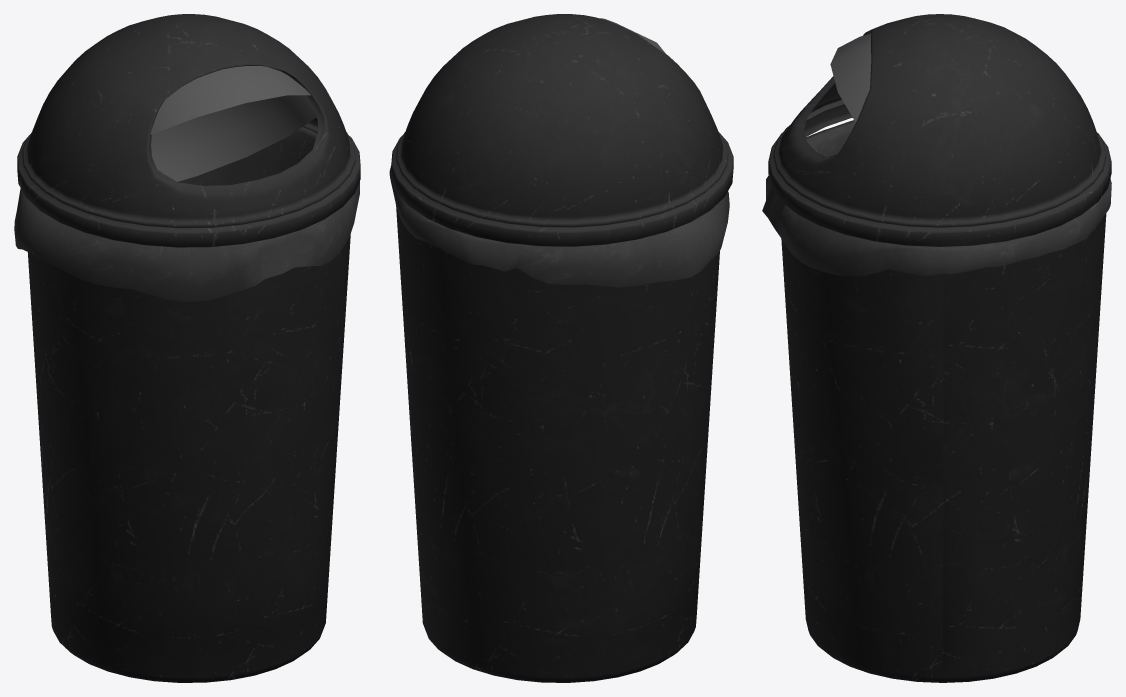
Rendered from SPAMCATBIN.fbx.
3 views of the same model, side by side, from view 1: azimuth 30°, elevation 25°; view 2: azimuth 150°, elevation 25°; view 3: azimuth 270°, elevation 25° (orthographic).
Visible parts, largest first — view 1: SPAMCATHOME; view 2: SPAMCATHOME; view 3: SPAMCATHOME.
Boxes of the visible parts, x1,y1,x2,y2 form: SPAMCATHOME: (14,14,360,682); SPAMCATHOME: (389,14,733,682); SPAMCATHOME: (762,14,1111,682).
Size of the model in its own units: 21.38 by 39.65 by 20.92.
